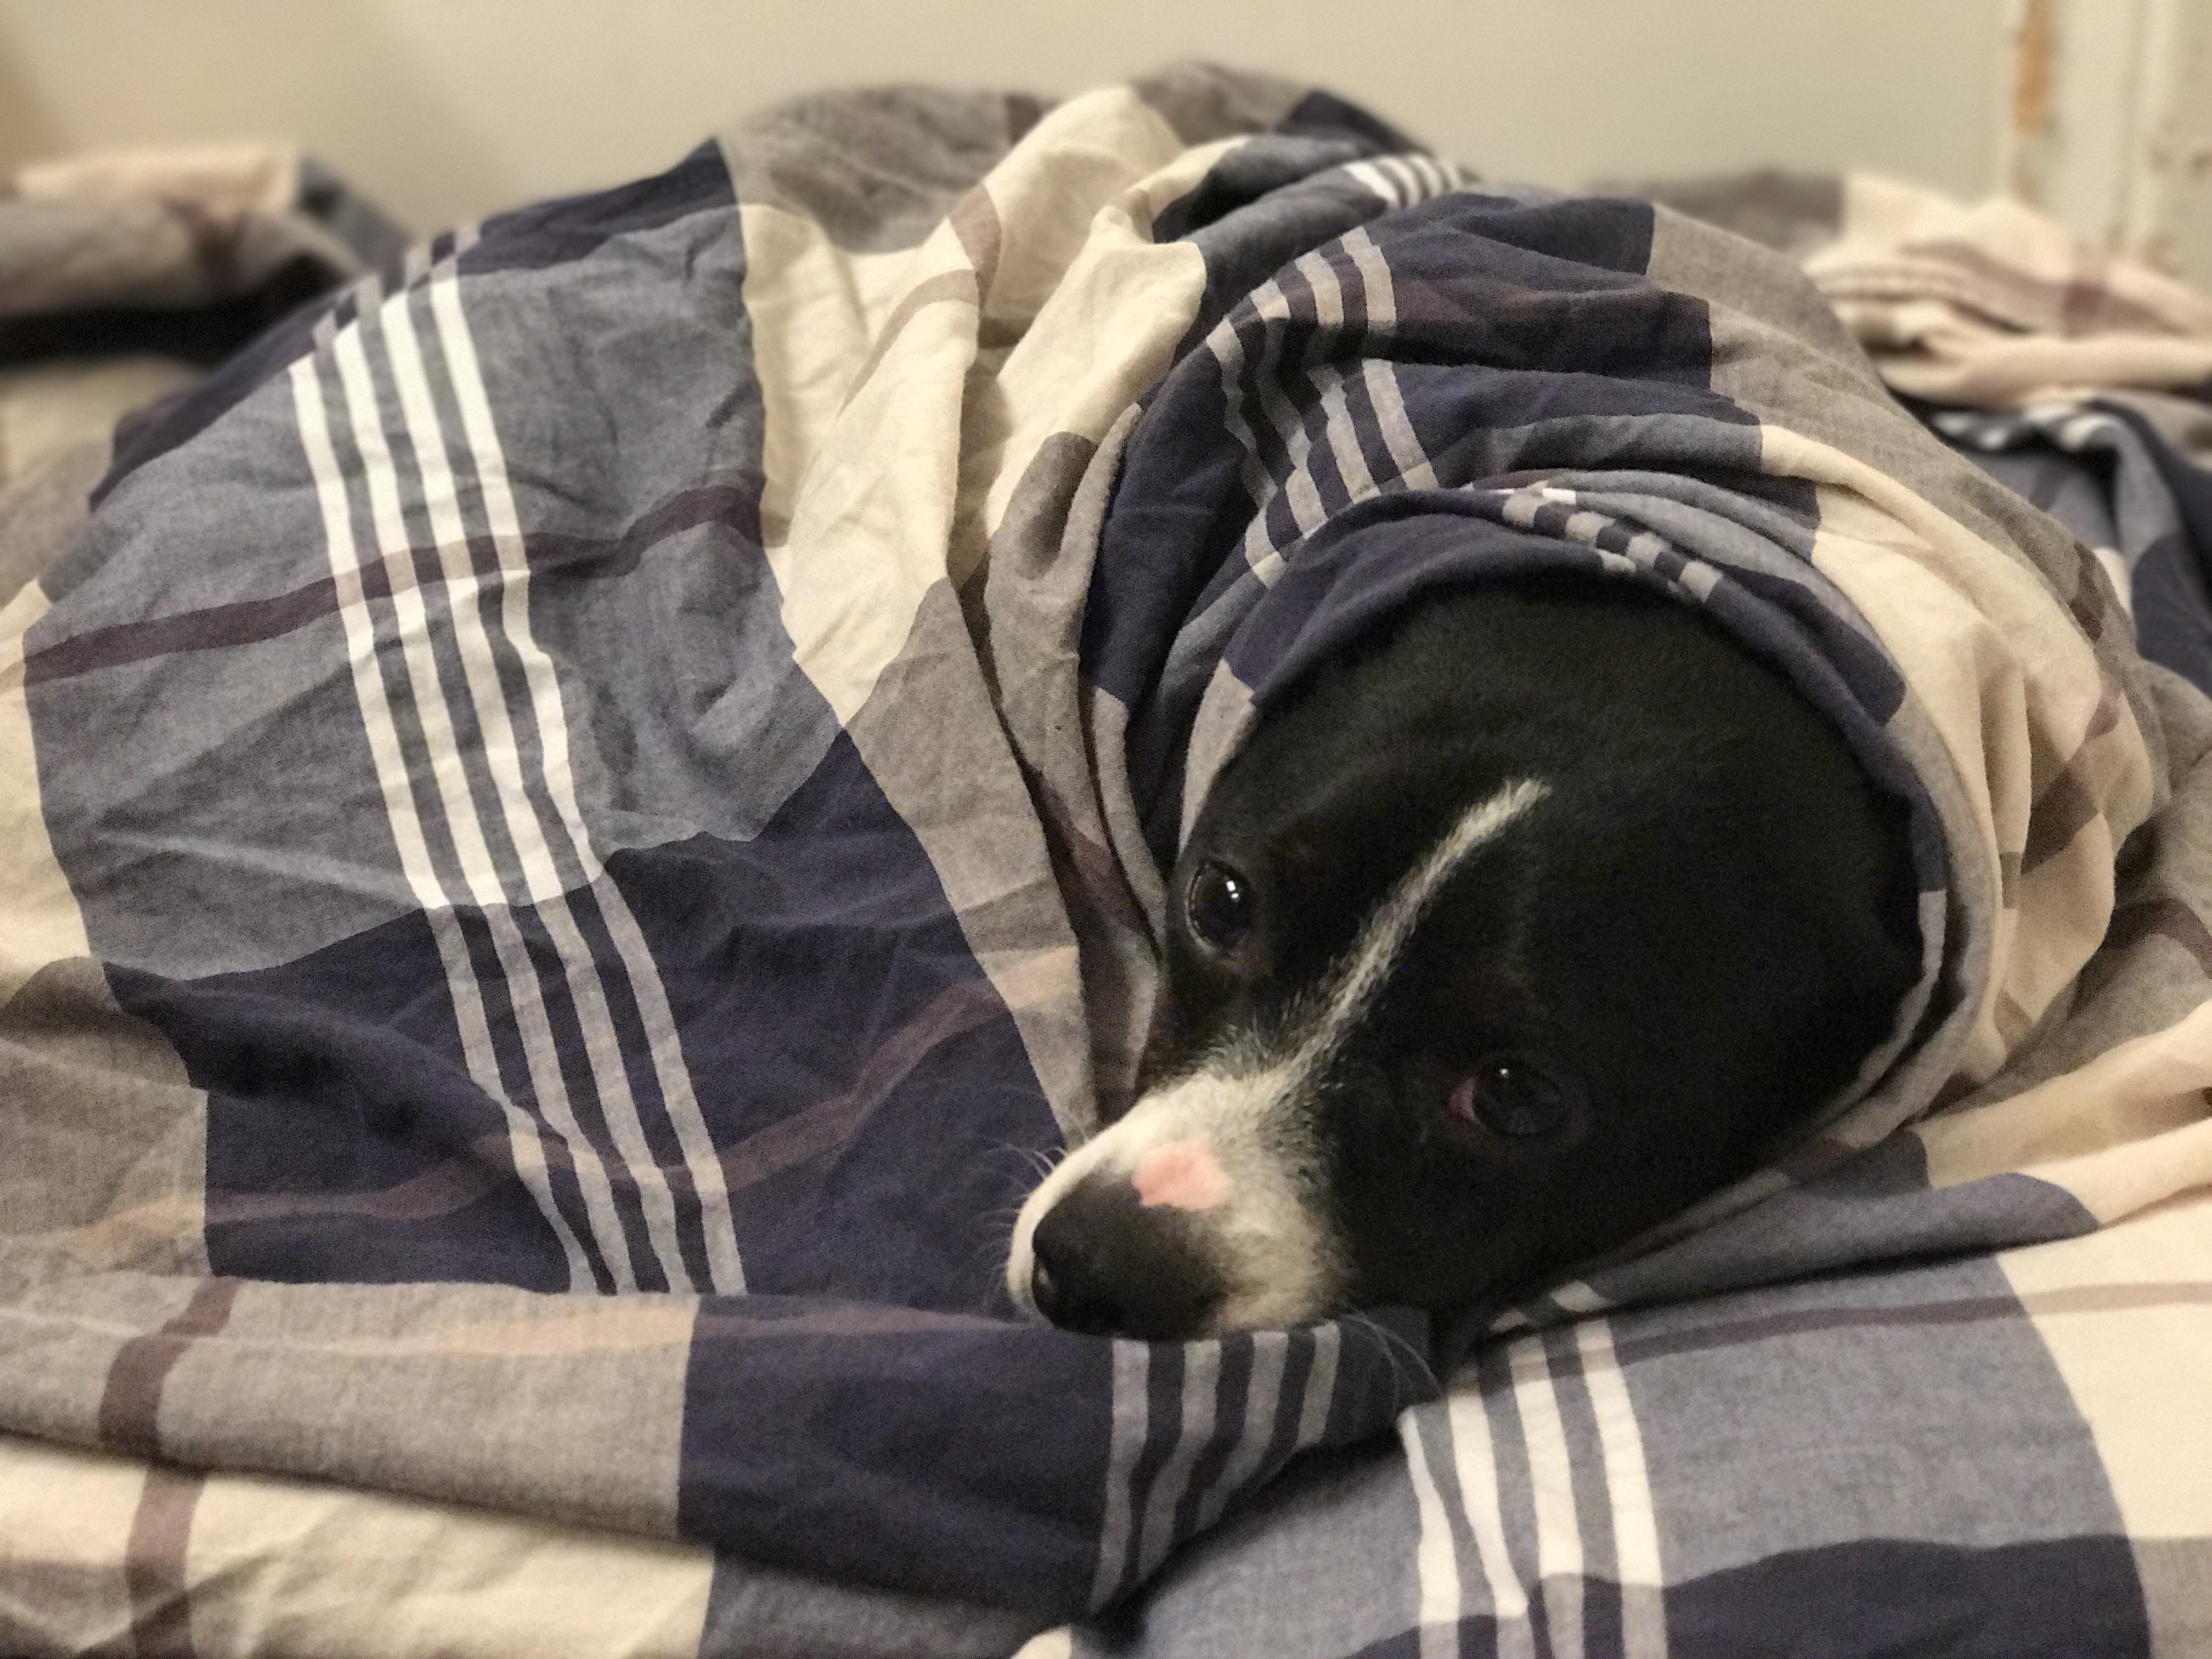Harley: (998, 538, 1977, 1370)
